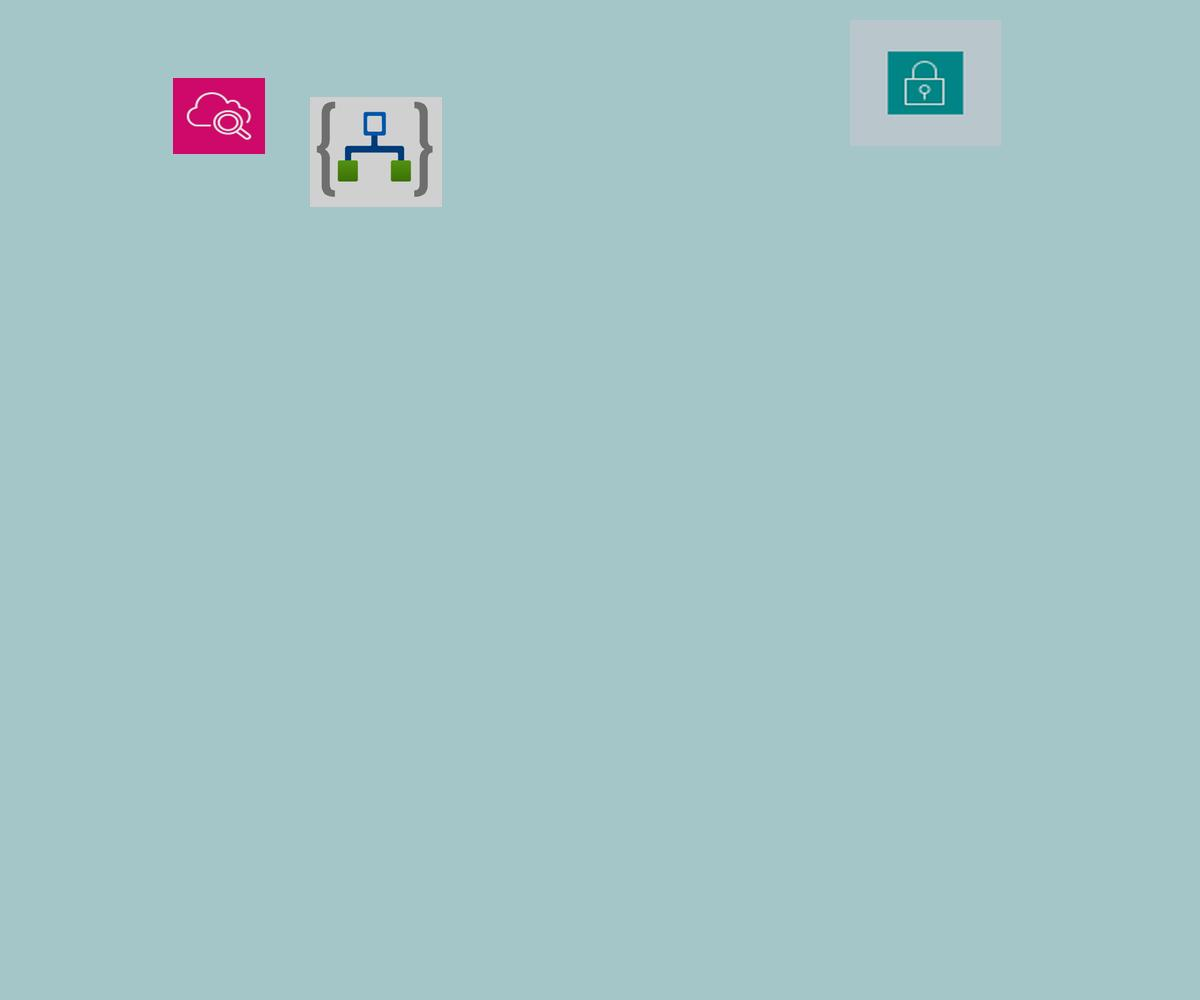AWS-CloudWatch: (173, 78, 265, 154)
AWS-Private-subnet: (850, 20, 1001, 146)
Azure_integration-204-Logic-Apps: (310, 97, 442, 207)
